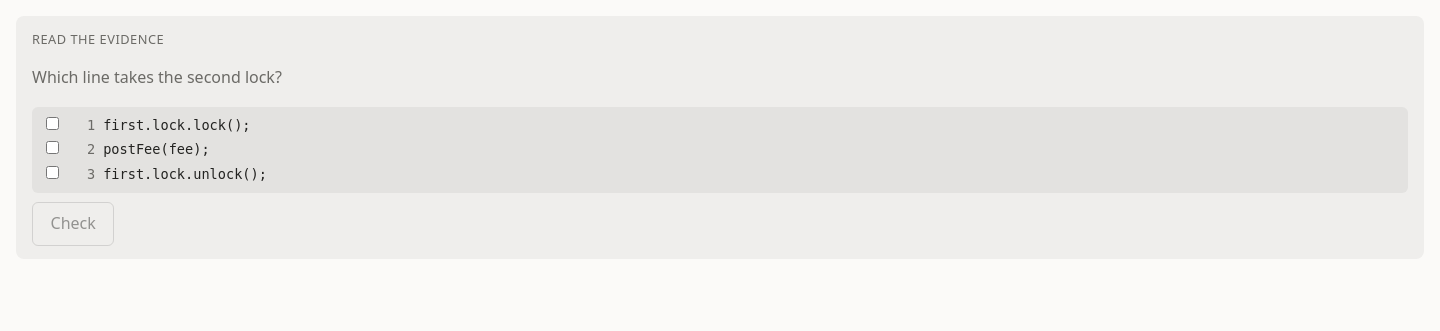
says which lines were missed and which were not causes, in words
The width and height of the screenshot is (1440, 331).
Click the checkbox named "Line 1: first.lock.lock();".
click(52, 124)  # box left=46, top=117, right=59, bottom=130
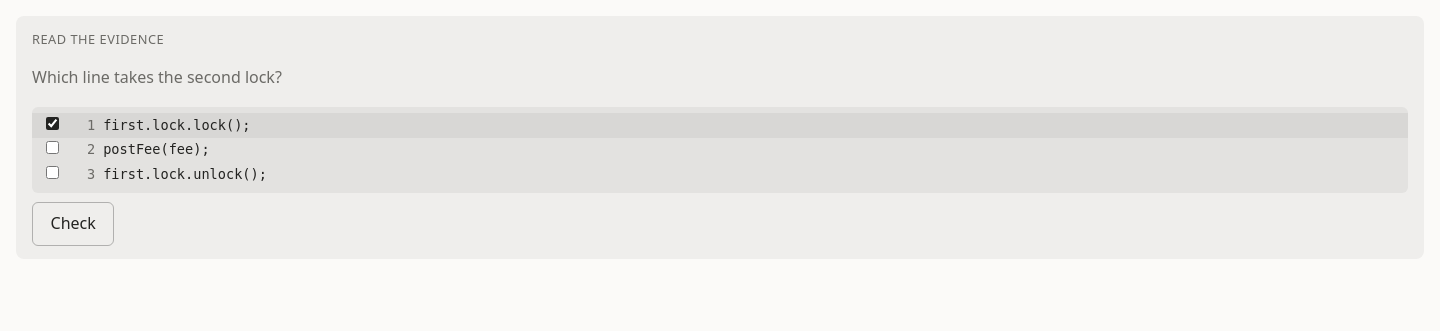
Click the button "Check".
click(73, 224)  # box left=32, top=202, right=114, bottom=246
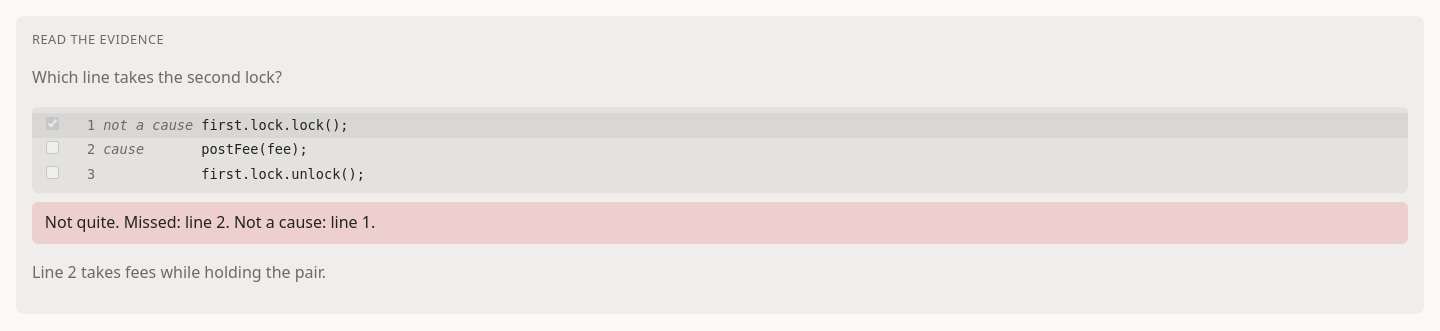
Result: the message reads "Not quite. Missed: line 2. Not a cause: line 1." at left=45, top=211, right=375, bottom=233
Result: the text "cause" is shown at left=103, top=141, right=144, bottom=157
Result: the text "not a cause" is shown at left=103, top=115, right=193, bottom=137
